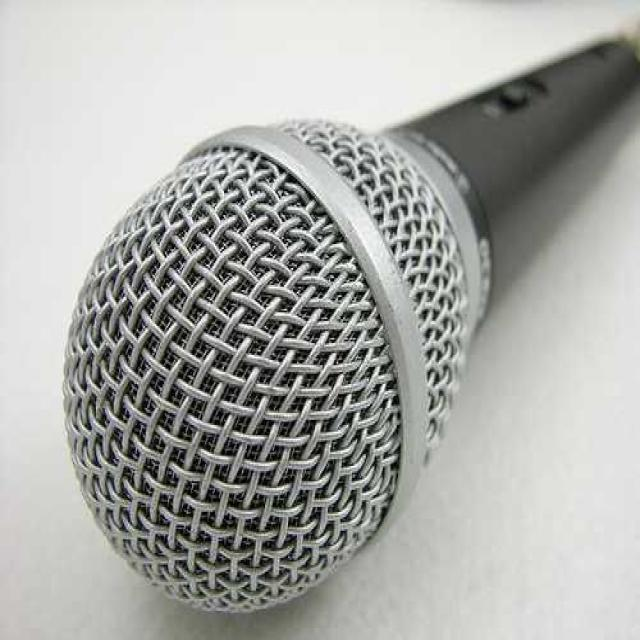microphone: (80, 19, 632, 608)
